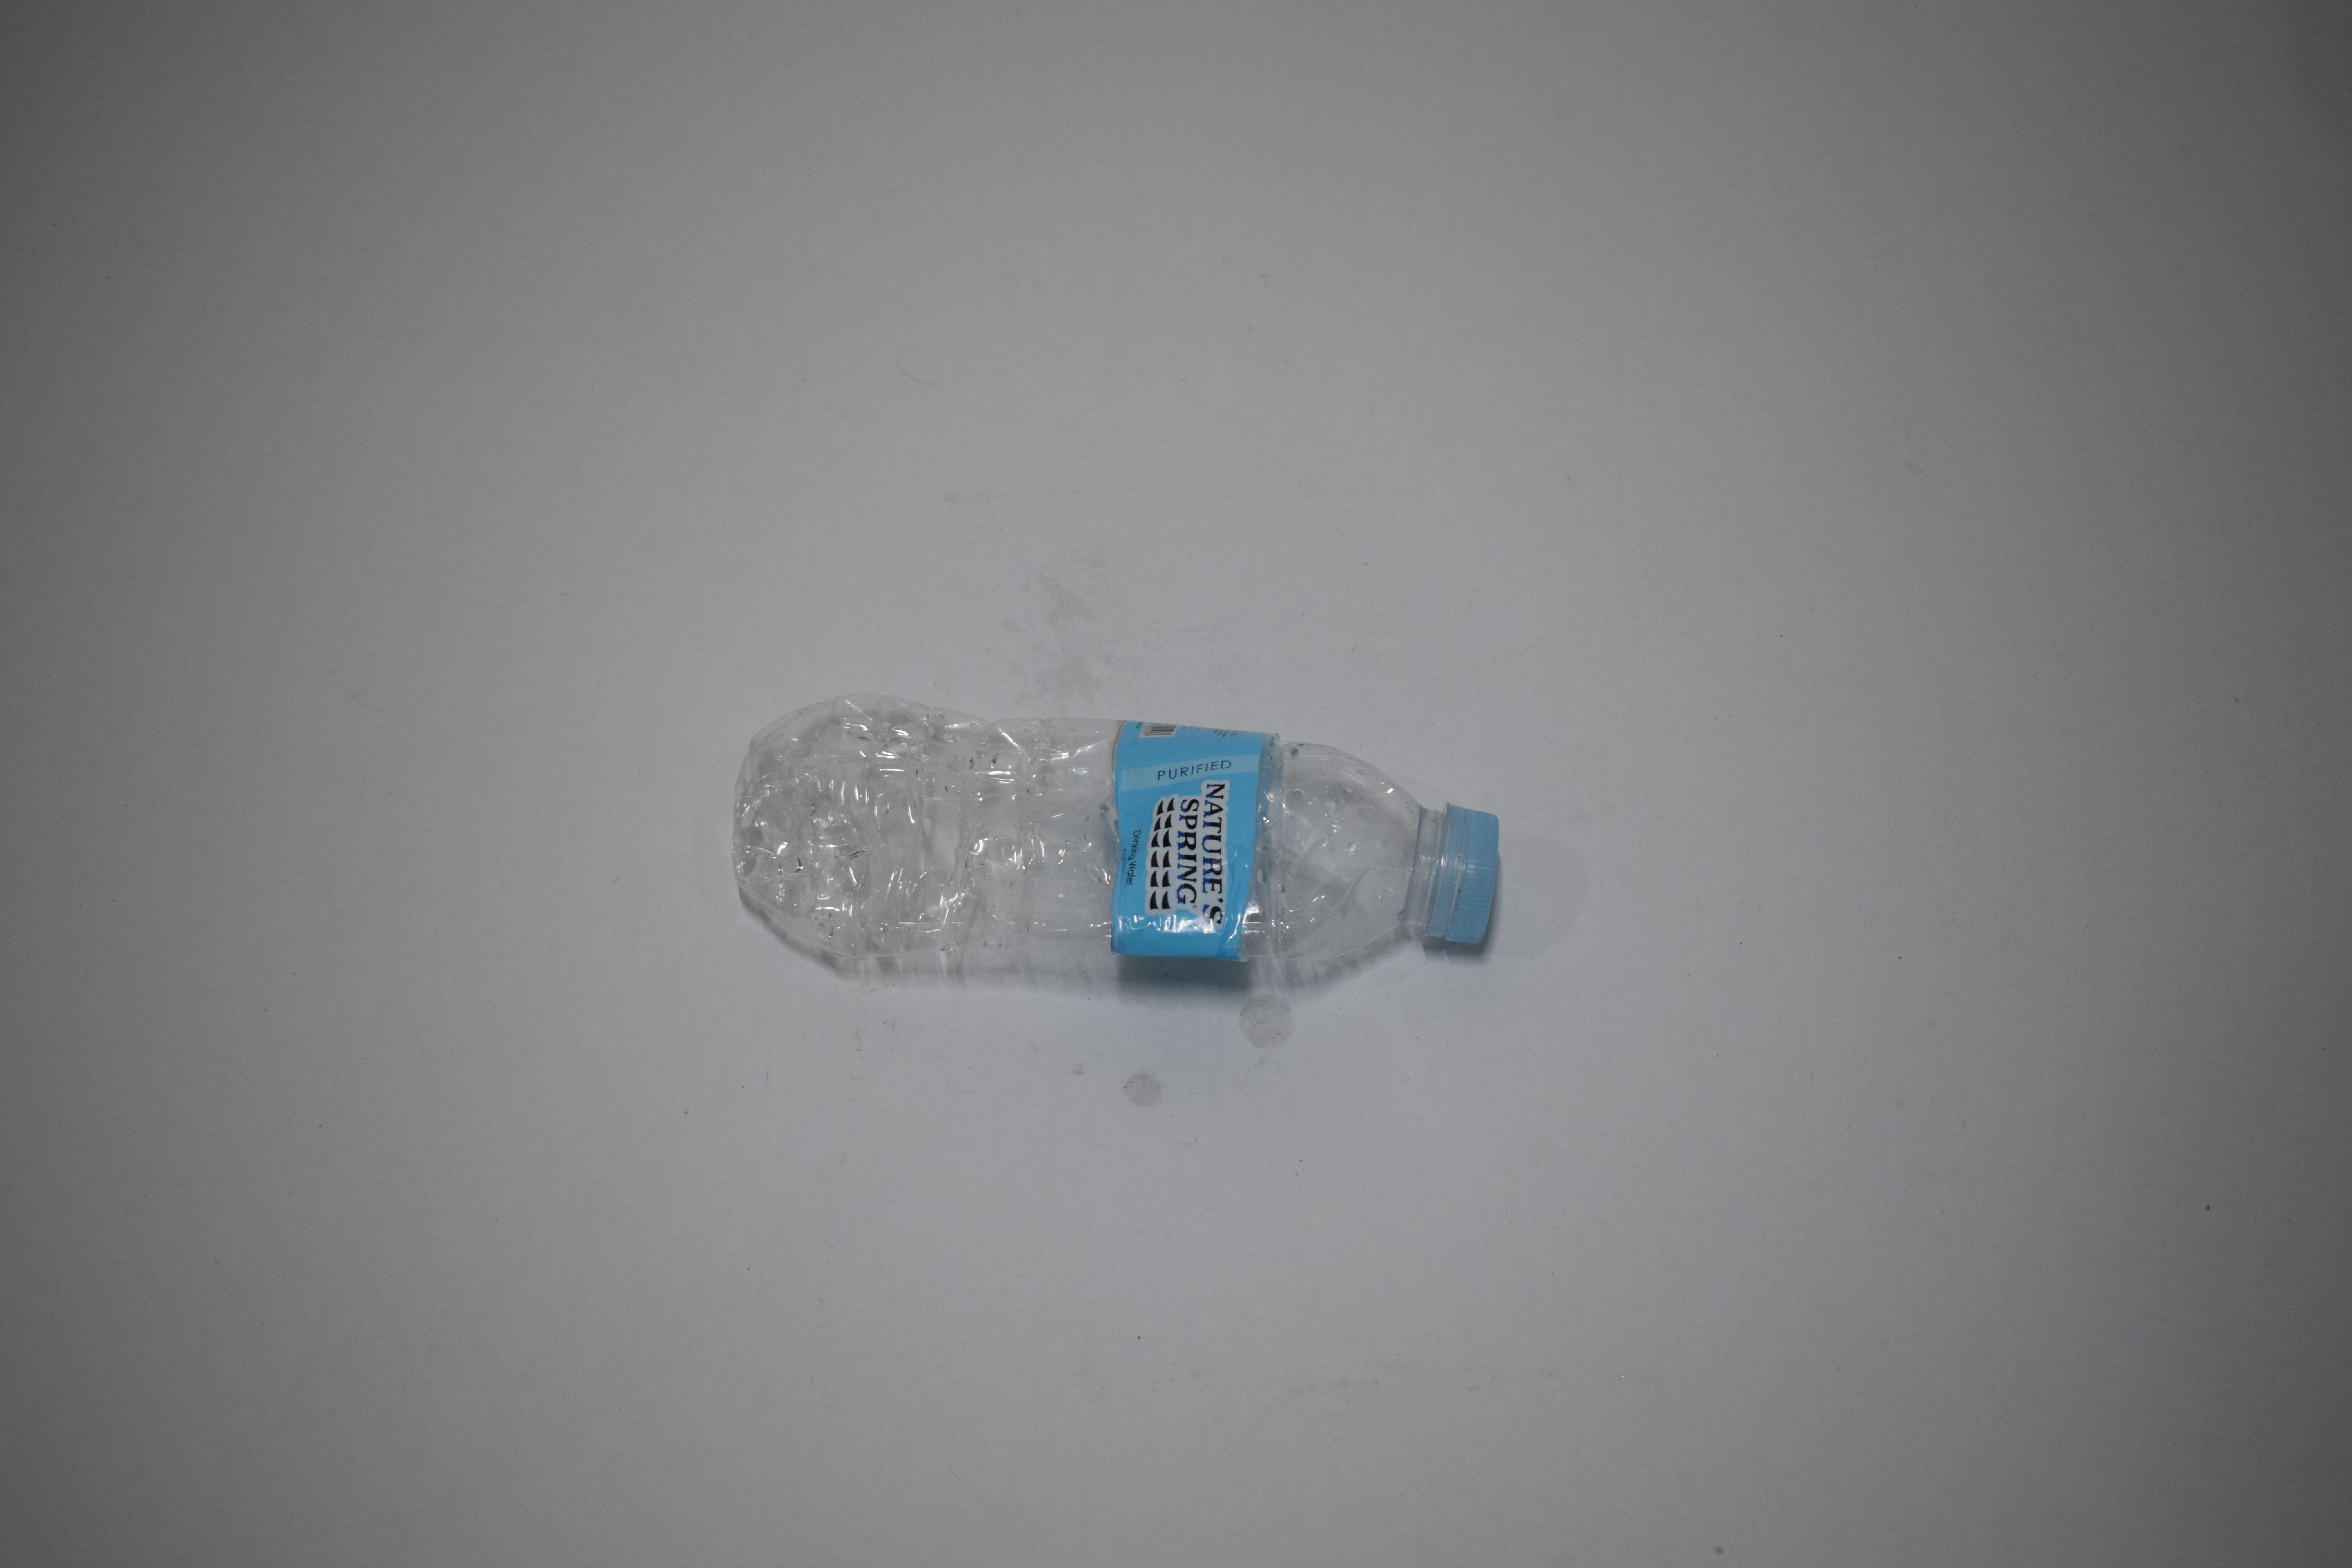bottle: (728, 0, 1503, 215)
